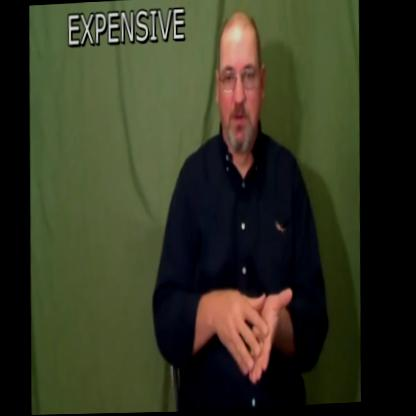Expensive: (143, 5, 340, 413)
